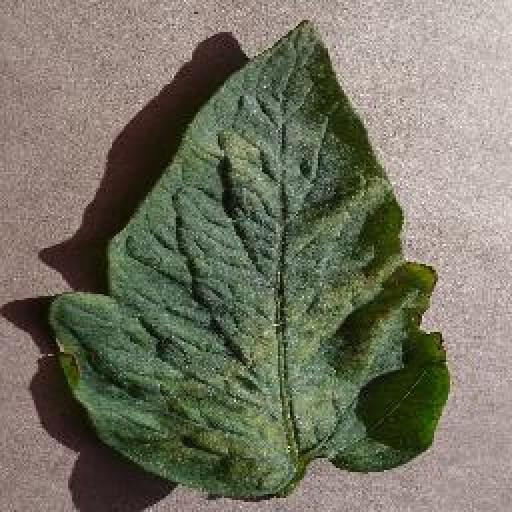disease_tomato: (53, 18, 451, 498)
